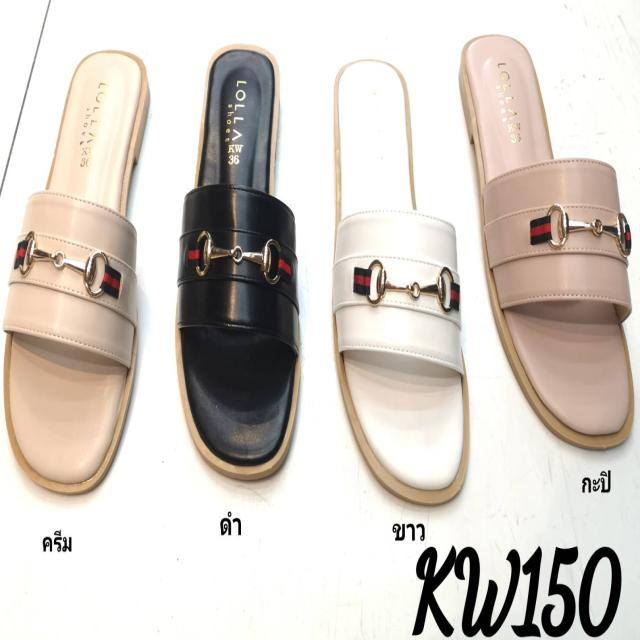black: (173, 45, 296, 472)
cream: (14, 48, 143, 495)
kapi: (462, 32, 634, 451)
white: (332, 54, 468, 496)
